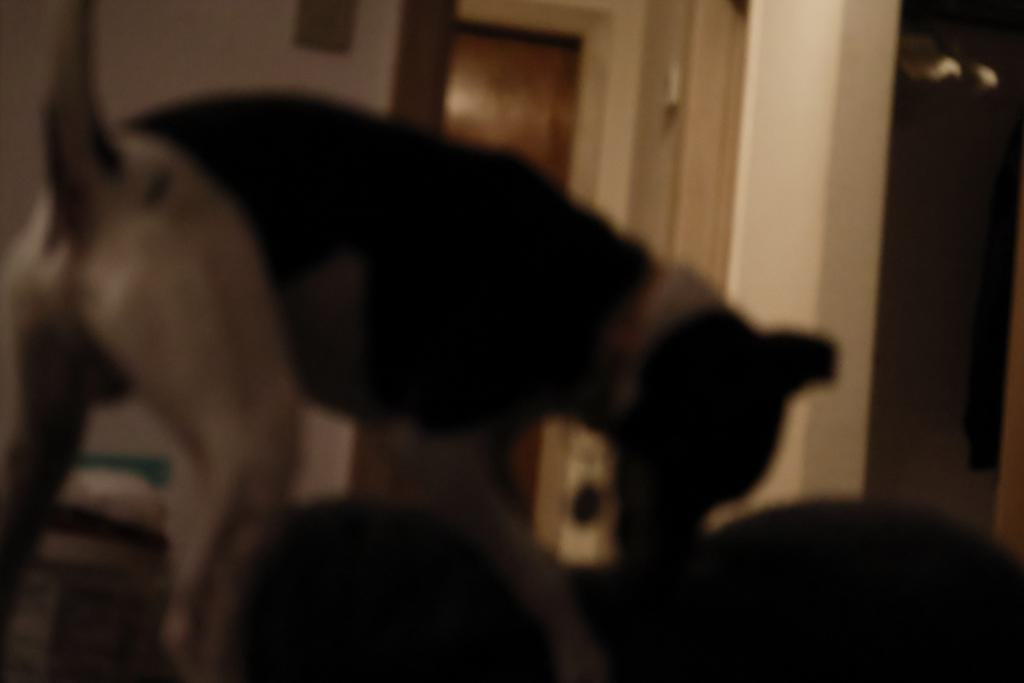Dog: (0, 0, 854, 683)
